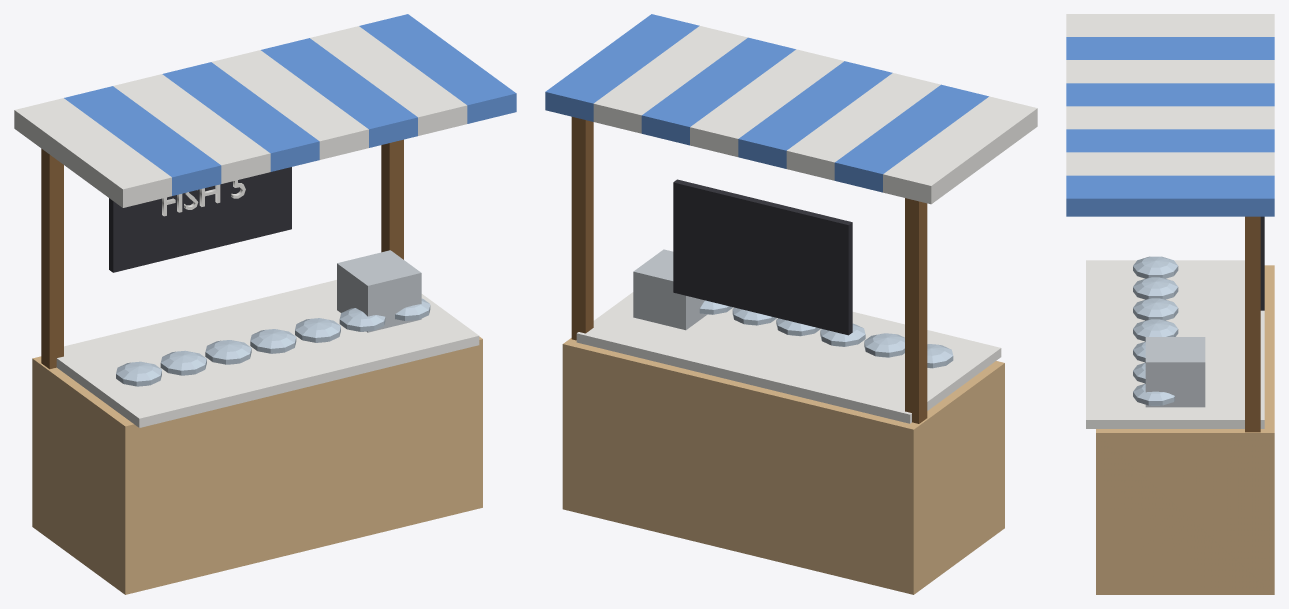
Rendered from harbour_stall.glb.
The picture shows the model from 3 angles, left to right: view 1: azimuth 30°, elevation 25°; view 2: azimuth 150°, elevation 25°; view 3: azimuth 270°, elevation 25°; orthographic projection. The views are drawn at different scales.
Visible parts, largest first — view 1: harbour_stall; view 2: harbour_stall; view 3: harbour_stall.
Boxes of the visible parts, box(x1,y1,x2,y2) form: harbour_stall: box(14, 14, 516, 594); harbour_stall: box(545, 14, 1037, 594); harbour_stall: box(1066, 14, 1274, 594).
Size of the model in its own units: 2.2 by 2.25 by 1.05.
